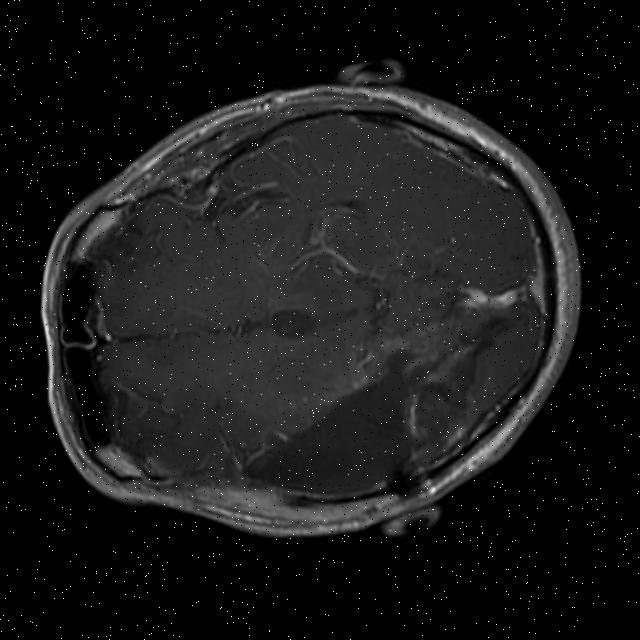Glioma: (227, 345, 439, 515)
